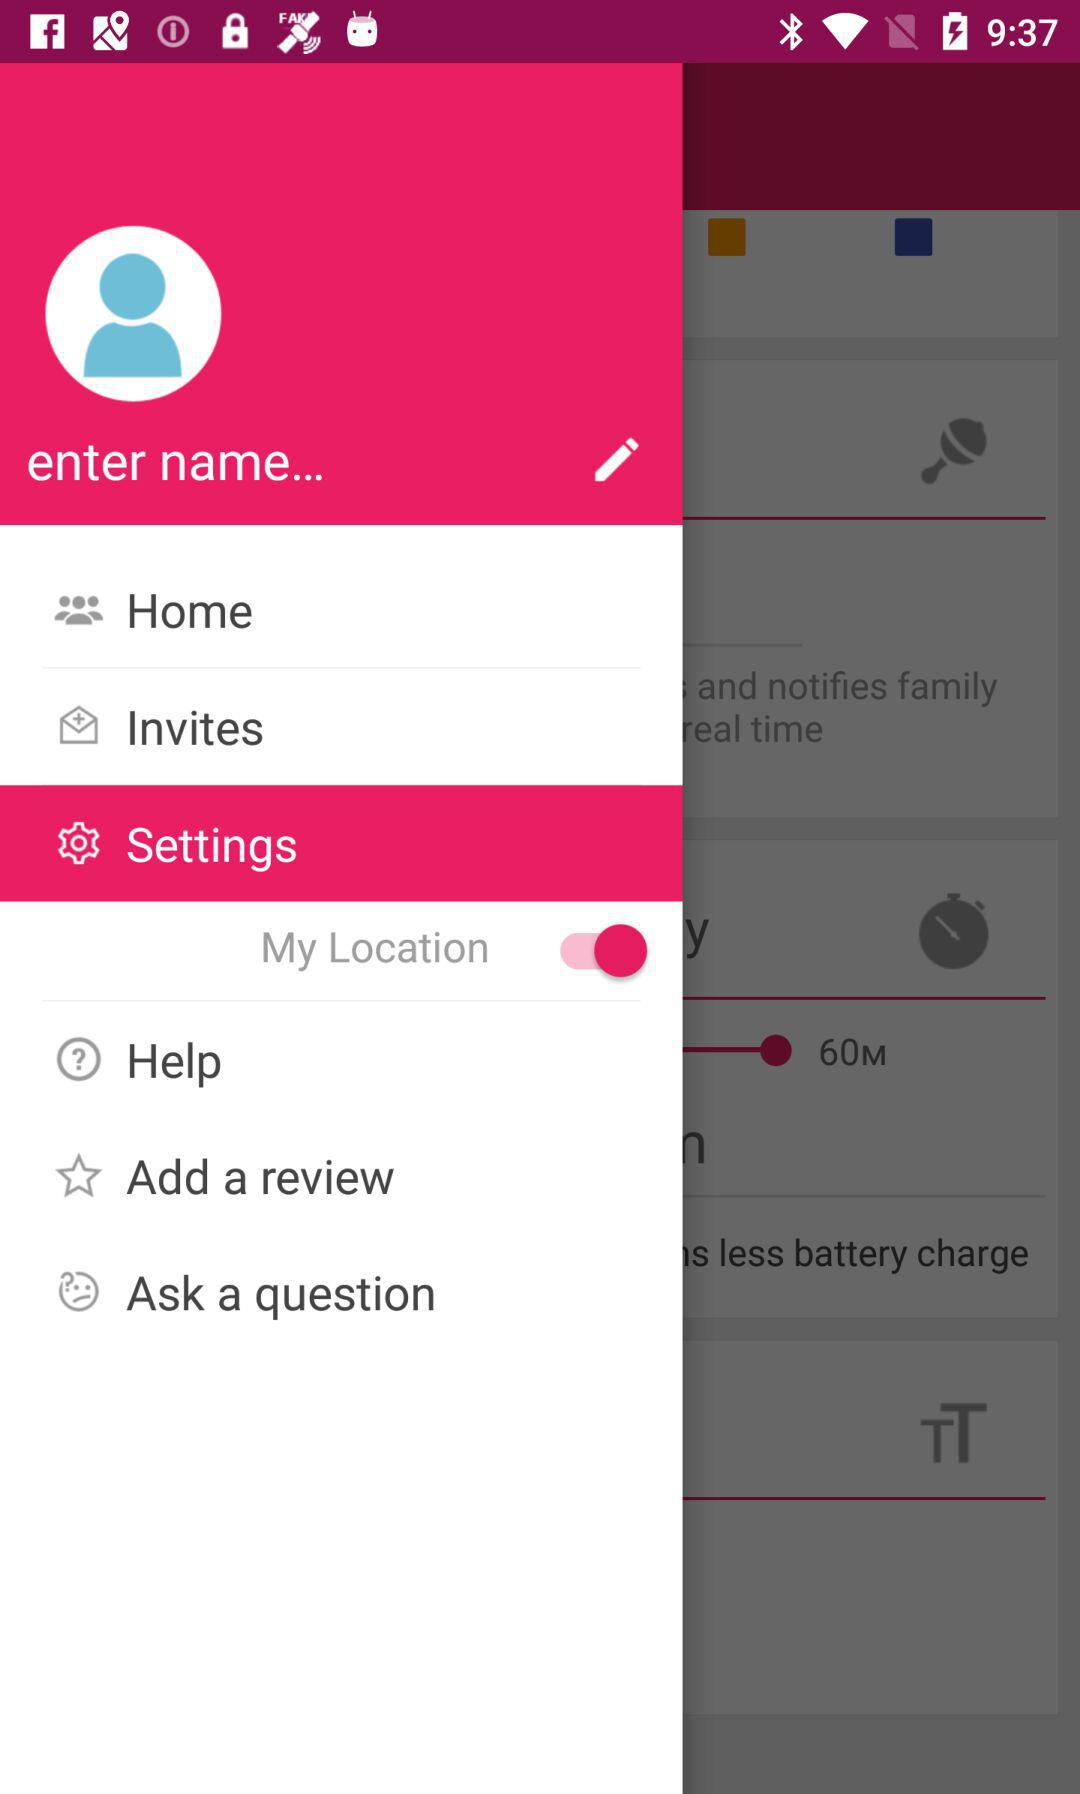Drawer: (1, 65, 683, 1794)
Icon: (46, 226, 223, 402), (55, 1152, 105, 1199), (592, 437, 641, 484), (56, 1037, 102, 1082), (59, 821, 101, 866), (60, 705, 100, 746), (55, 595, 105, 627)
Image: (59, 1271, 101, 1313)
Switch: (559, 923, 650, 979)
Text: (126, 1272, 436, 1322), (27, 443, 328, 484), (126, 1157, 395, 1199), (263, 930, 489, 973), (126, 824, 296, 871), (128, 709, 268, 750), (128, 591, 258, 632), (129, 1041, 222, 1090)
UpperTaskBar: (1, 1, 1080, 64)
